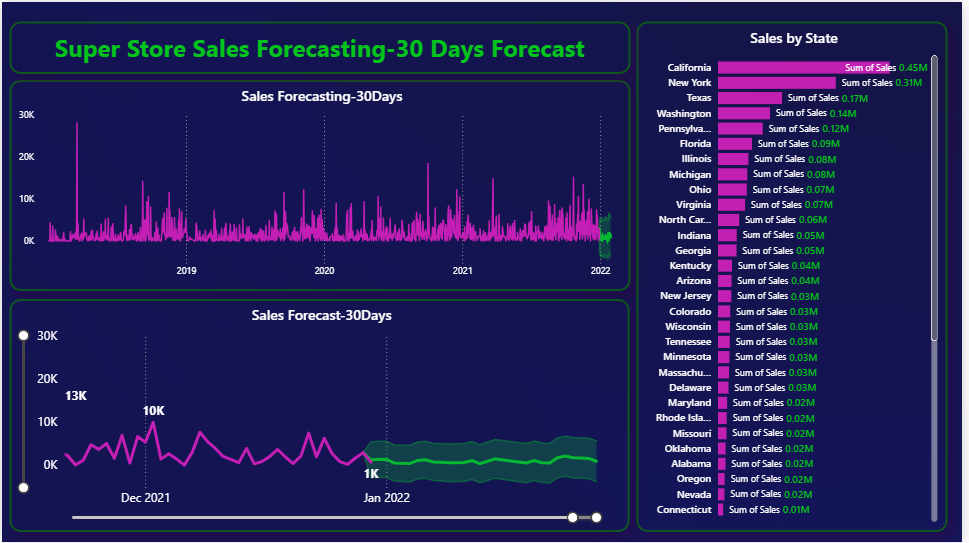

The page's visual inventory and layout, read from the dashboard file:
{"tool":"powerbi","page":{"name":"sales Forcast","canvas":[1280,720],"ordinal":1},"visuals":[{"type":"lineChart","title":"Sales Forecasting-30Days","fields":{"Y":["Sum(Orders.Sales)"],"Category":["Orders.Order Date"]},"box":[9.2,104.9,827.7,281.3],"z":0},{"type":"lineChart","title":"Sales Forecast-30Days","fields":{"Y":["Sum(Orders.Sales)"],"Category":["Orders.Order Date"]},"box":[9.3,395.5,826.9,310.6],"z":1000},{"type":"clusteredBarChart","title":"Sales by State","fields":{"Category":["Orders.State"],"Y":["Sum(Orders.Sales)"]},"box":[846.2,25,414.5,680.4],"z":2000},{"type":"textbox","box":[9.2,25.4,827.7,70.3],"z":3000}]}

Visuals, with their boxes in screenshot pixels (x1, y1, x2, y2), scaled from the page's 1280x720 canvas onto the 969x543 screenshot:
"Sales Forecasting-30Days" lineChart: left=7, top=79, right=634, bottom=291
"Sales Forecast-30Days" lineChart: left=7, top=298, right=633, bottom=533
"Sales by State" clusteredBarChart: left=641, top=19, right=954, bottom=532
textbox: left=7, top=19, right=634, bottom=72
